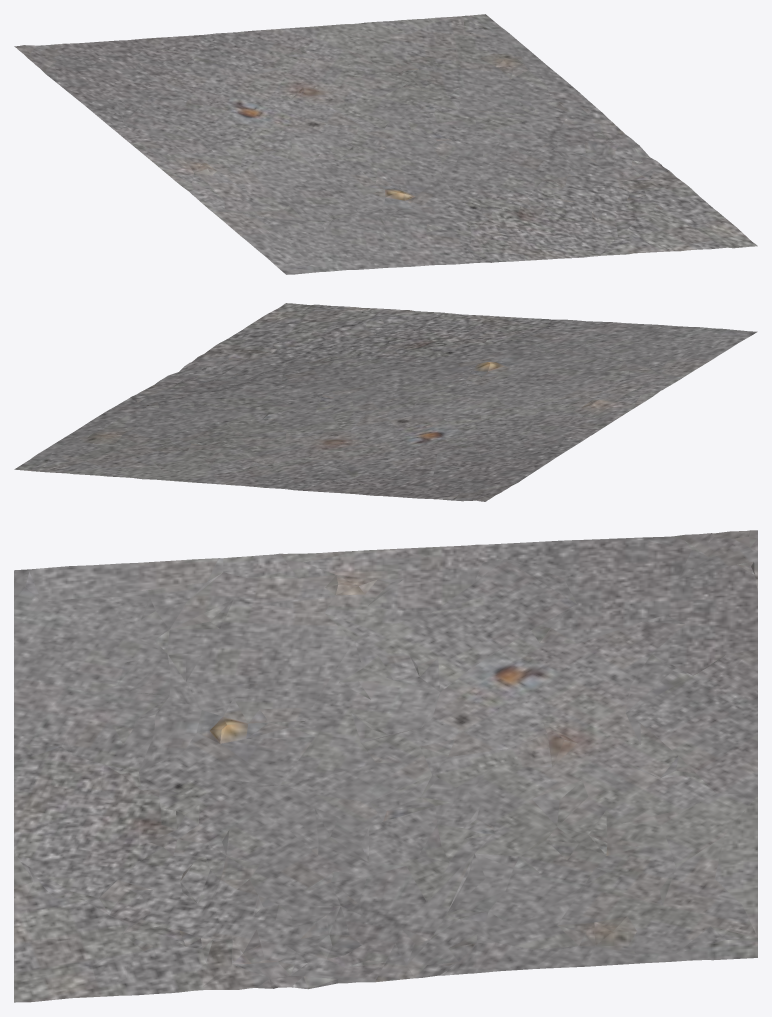
3 views of the same model, one above another, from view 1: azimuth 30°, elevation 25°; view 2: azimuth 150°, elevation 25°; view 3: azimuth 270°, elevation 25° (orthographic). The views are drawn at different scales.
Bounding box in the file's own units: 1.67 × 0.3926 × 1.67.
Materials: 3 (3 with a texture image).
